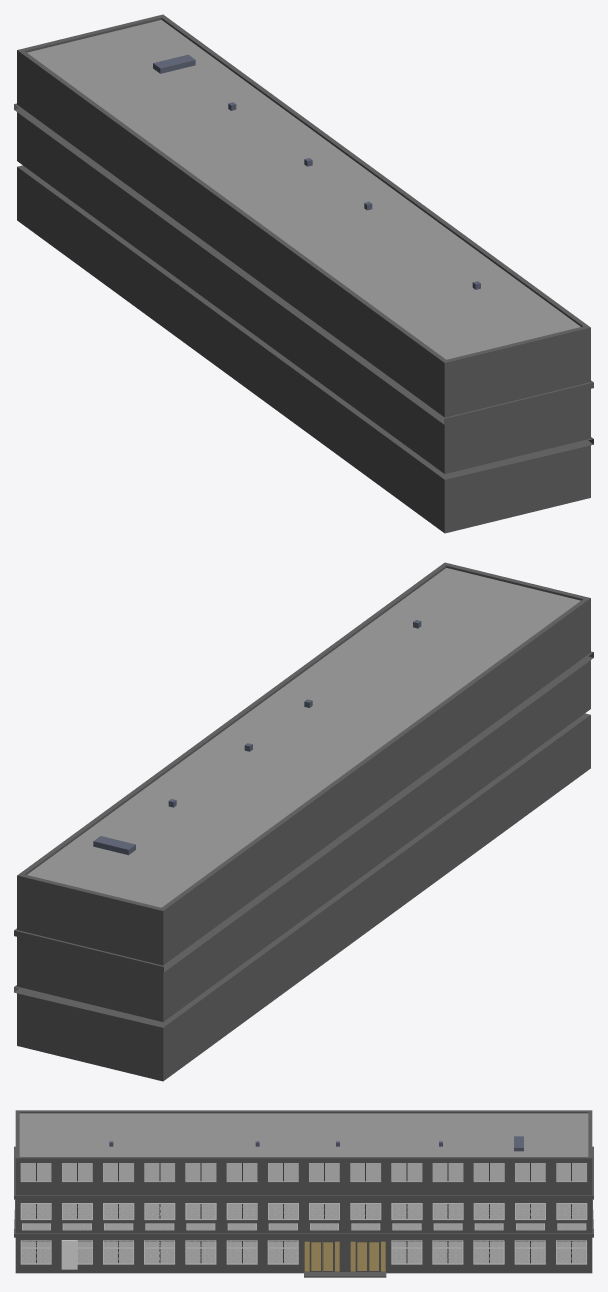
The picture shows the model from 3 angles, top to bottom: view 1: azimuth 30°, elevation 25°; view 2: azimuth 150°, elevation 25°; view 3: azimuth 270°, elevation 25°; orthographic projection. The views are drawn at different scales.
Visible parts, largest first — view 1: main hall 5th; view 2: main hall 5th; view 3: main hall 5th.
Boxes of the visible parts, x1=… form: main hall 5th: x1=14, y1=14, x2=593, y2=533; main hall 5th: x1=14, y1=562, x2=593, y2=1081; main hall 5th: x1=14, y1=1110, x2=593, y2=1277.
Bounding box in the file's own units: 138 × 29.75 × 30.72.
